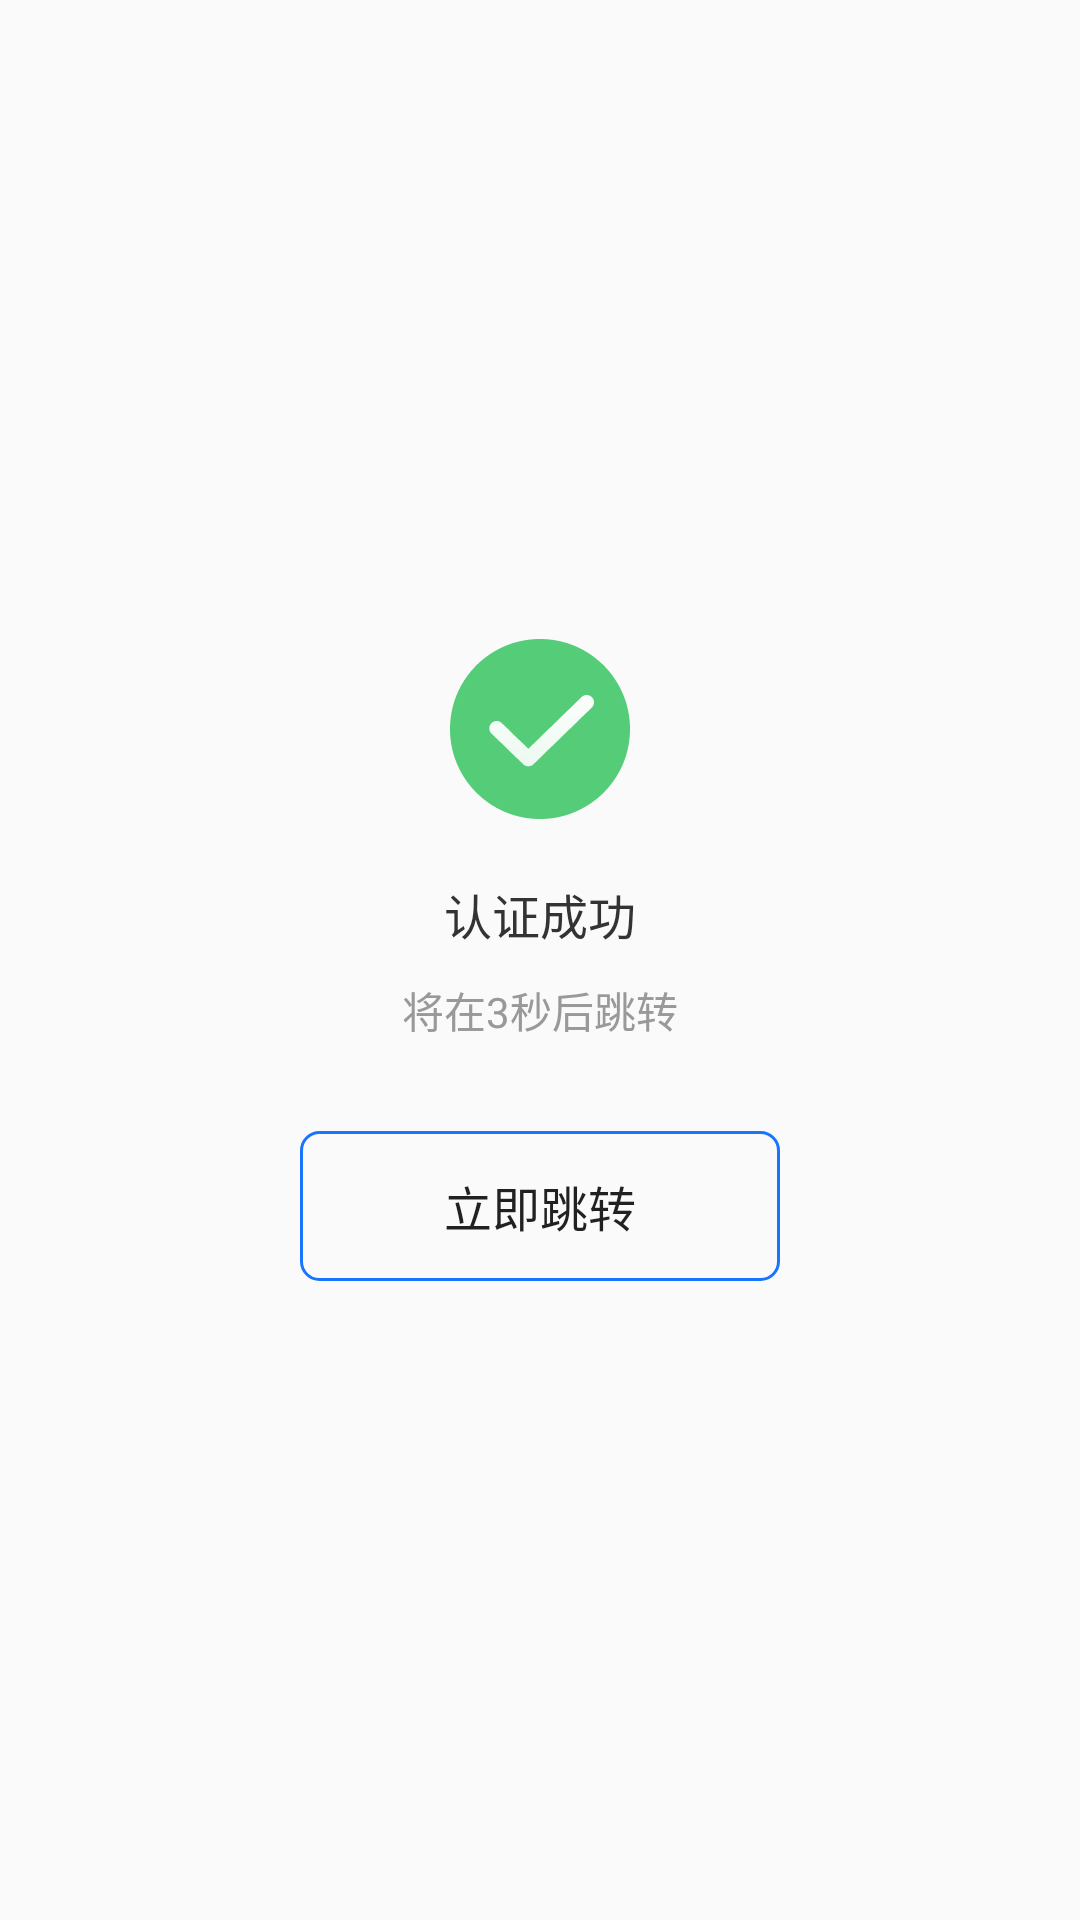

Icon bounding boxes for this 1080px×1920px phone screenshot, format (x1, y1, x2, y2):
auth success: (450, 639, 630, 819)
